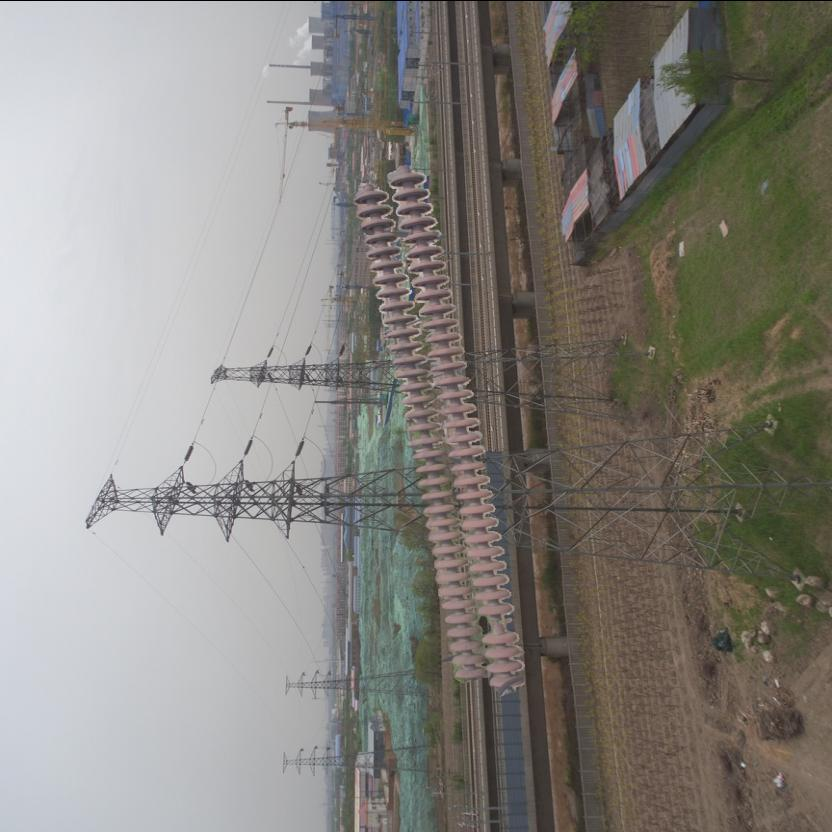defect: (476, 596, 522, 648)
